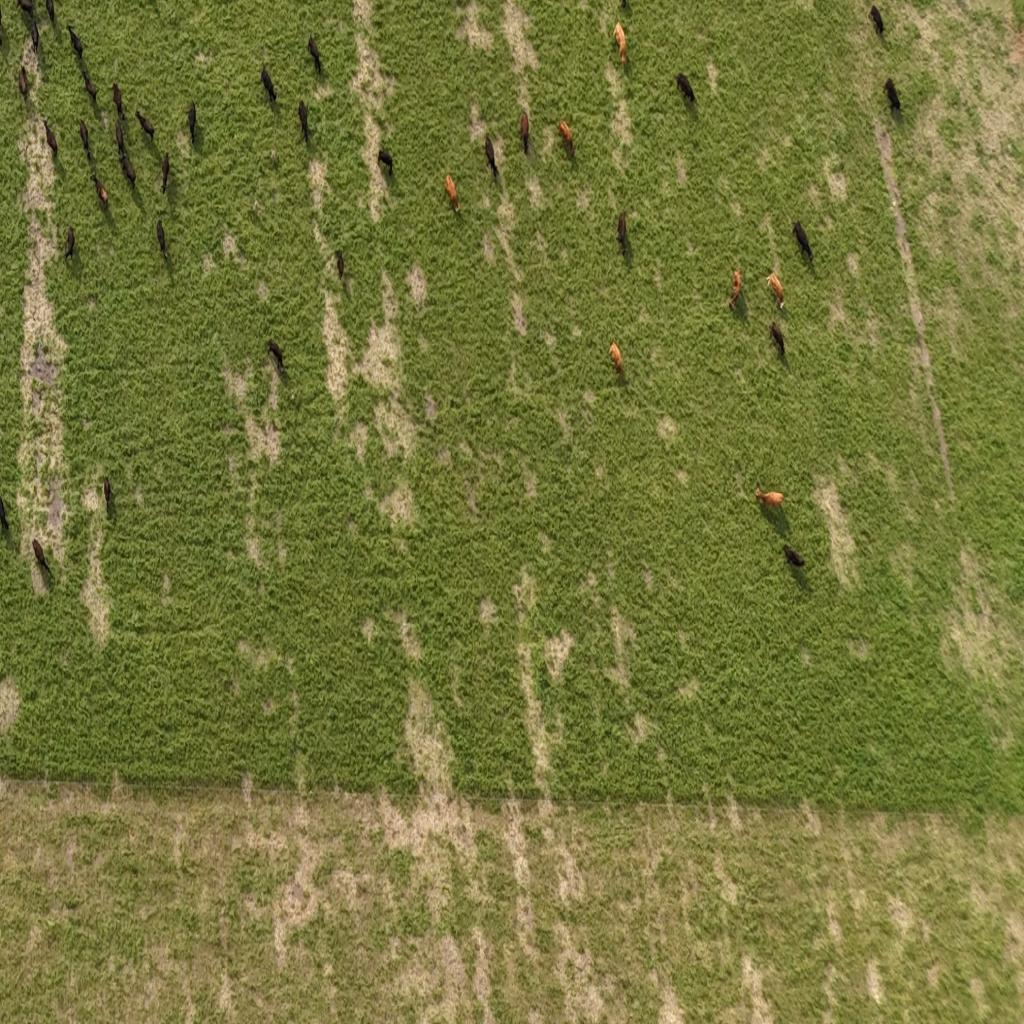cow: (792, 220, 814, 264), (32, 538, 52, 581), (883, 77, 902, 114), (260, 65, 278, 104), (766, 272, 784, 311), (119, 149, 137, 188), (769, 320, 786, 358), (92, 172, 109, 210), (558, 120, 574, 160), (484, 135, 498, 180), (754, 487, 784, 508), (676, 73, 695, 105), (136, 110, 155, 142), (616, 211, 629, 257), (728, 268, 742, 310), (78, 118, 92, 160), (112, 81, 127, 120), (67, 24, 83, 60), (308, 33, 322, 74), (268, 340, 285, 373), (614, 21, 627, 64), (156, 213, 168, 259), (44, 119, 58, 158), (298, 99, 310, 144), (446, 174, 460, 212), (783, 544, 805, 568), (83, 70, 98, 105), (868, 4, 884, 36), (609, 340, 623, 376), (519, 110, 530, 154), (377, 148, 393, 178), (63, 225, 75, 262), (160, 151, 170, 193), (114, 118, 124, 158), (188, 101, 197, 143), (16, 0, 34, 21), (0, 491, 9, 532), (19, 65, 28, 105), (104, 473, 113, 510), (30, 22, 40, 54), (336, 248, 345, 280), (45, 0, 55, 27), (618, 0, 631, 14)
